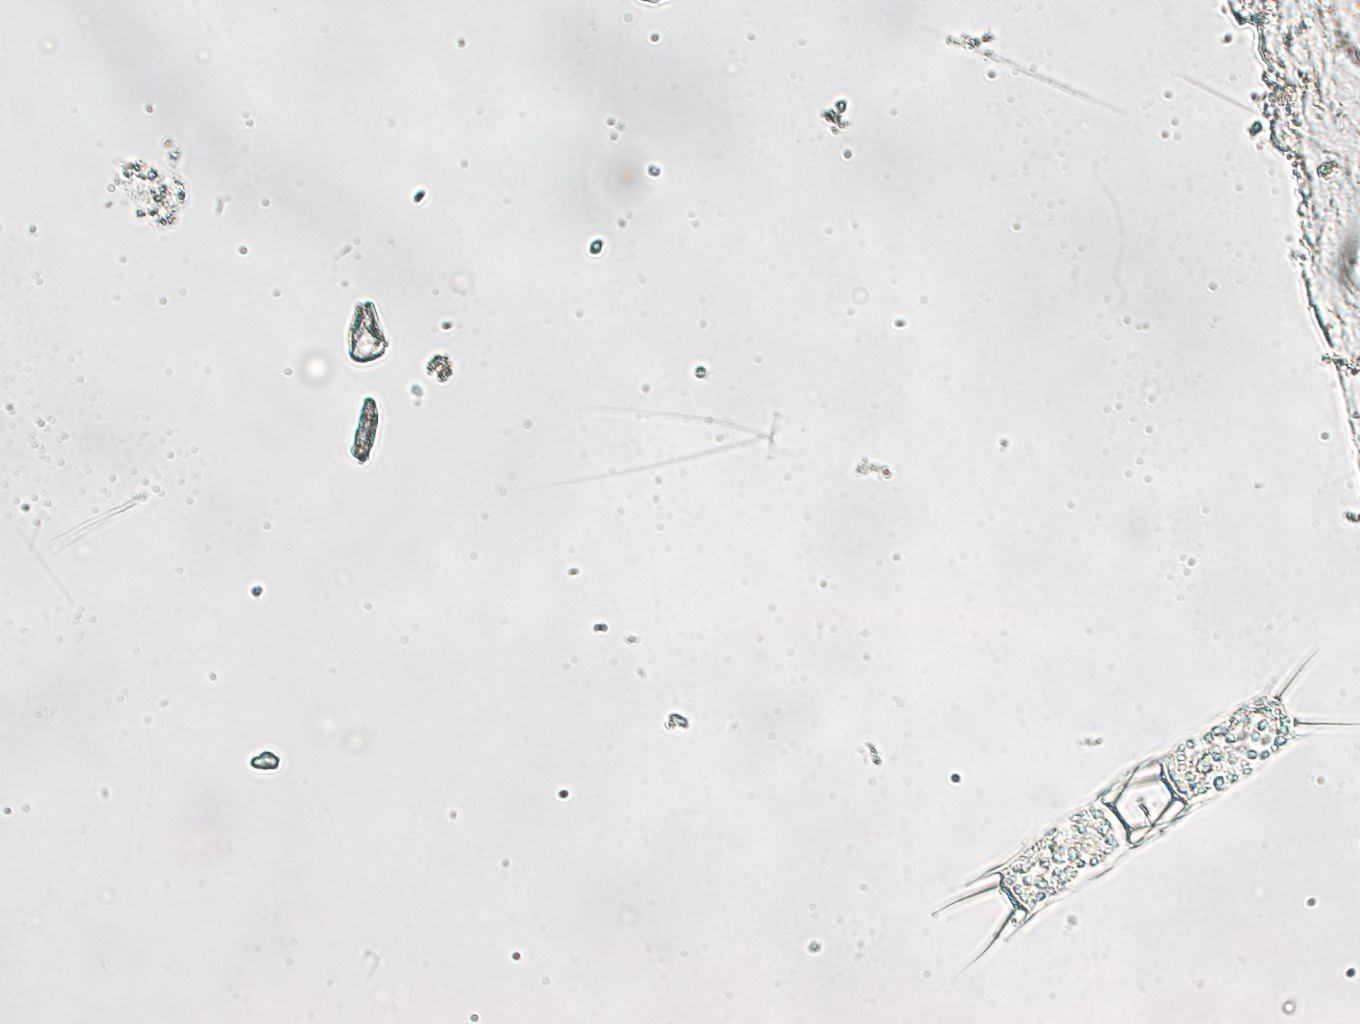biddulphia: (920, 648, 1360, 972)
